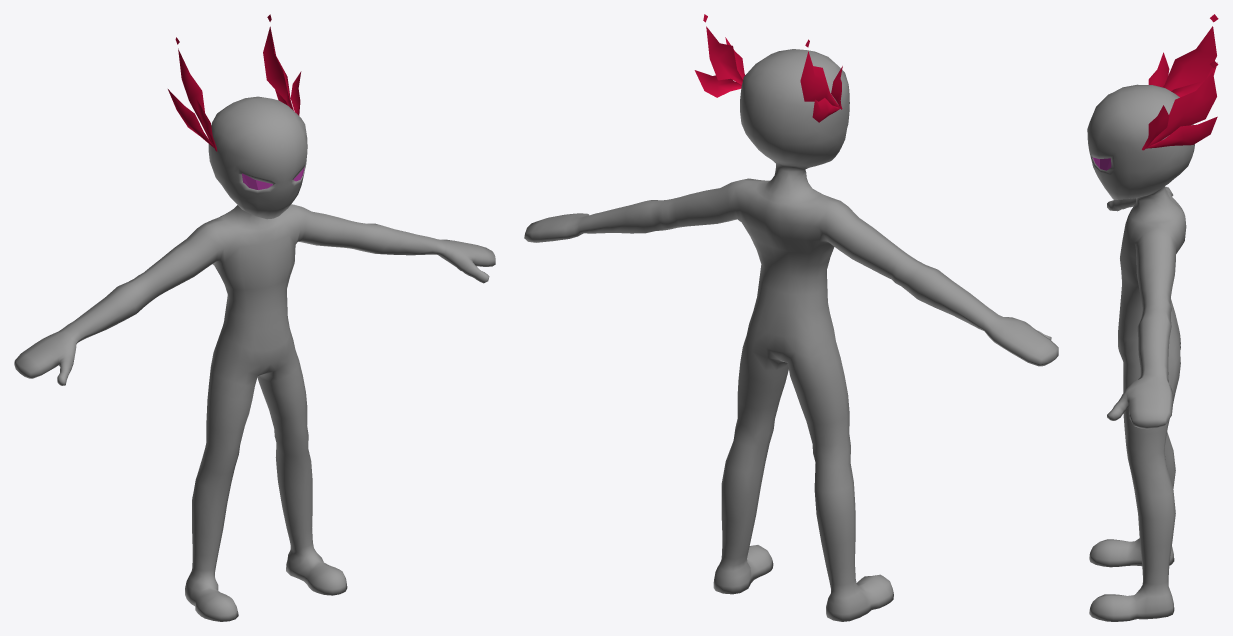
The model's file is red_5.FBX.
3 views of the same model, side by side, from view 1: azimuth 30°, elevation 25°; view 2: azimuth 150°, elevation 25°; view 3: azimuth 270°, elevation 25° (orthographic). The views are drawn at different scales.
Visible parts, largest first — view 1: RED, Object002; view 2: RED, Object002; view 3: RED, Object002.
Part boxes in pixels (x1,y1,x2,y2): RED: [14, 96, 495, 621]; Object002: [168, 14, 301, 151]; RED: [524, 49, 1058, 621]; Object002: [694, 14, 842, 122]; RED: [1087, 84, 1194, 621]; Object002: [1142, 14, 1218, 150].
Size of the model in its own units: 116 by 126 by 27.36.
